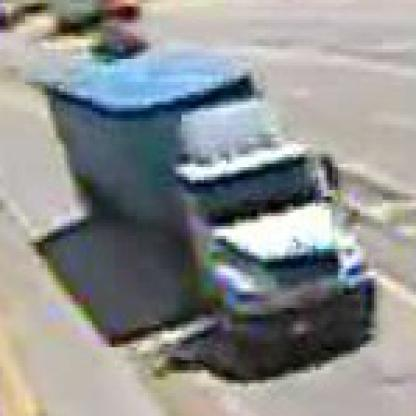truck: (37, 57, 364, 374)
